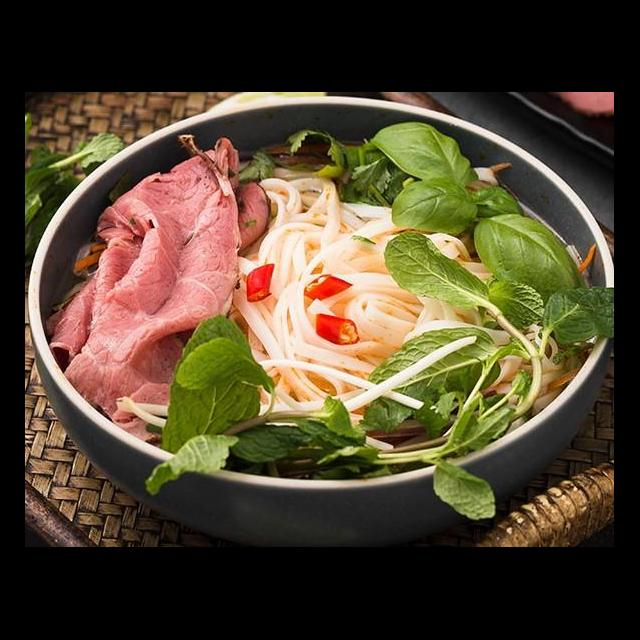banh pho: (226, 170, 474, 416), (474, 316, 568, 438)
pho bo: (27, 120, 614, 548)
thit bo: (49, 128, 258, 448), (42, 130, 274, 370)
